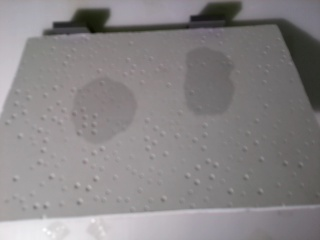Water_detected: (78, 76, 138, 135), (186, 54, 235, 111)
